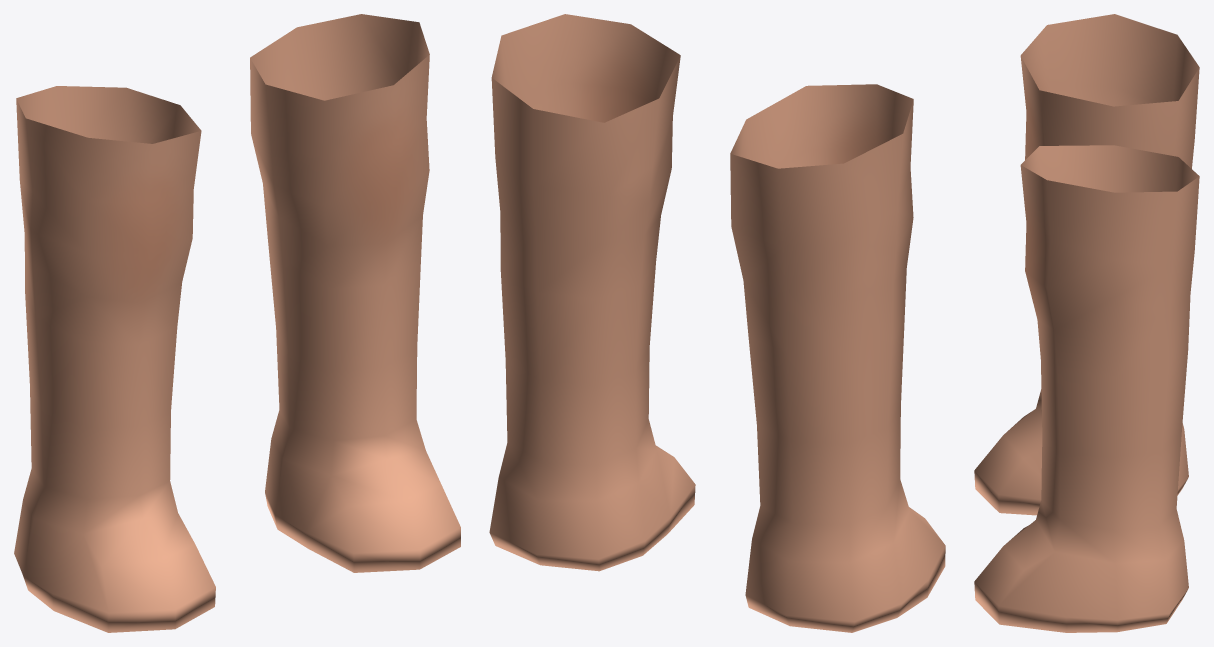
Rendered from Body_Yellow_LegB_1.fbx.
3 renders of one model, left to right at view 1: azimuth 30°, elevation 25°; view 2: azimuth 150°, elevation 25°; view 3: azimuth 270°, elevation 25°, orthographic. The views are drawn at different scales.
Visible parts, largest first — view 1: Body_Yellow_LegB_1; view 2: Body_Yellow_LegB_1; view 3: Body_Yellow_LegB_1.
Boxes of the visible parts, x1=… form: Body_Yellow_LegB_1: x1=14, y1=14, x2=460, y2=632; Body_Yellow_LegB_1: x1=489, y1=14, x2=945, y2=632; Body_Yellow_LegB_1: x1=974, y1=14, x2=1199, y2=632.
Size of the model in its own units: 32.81 by 37.71 by 17.42.
